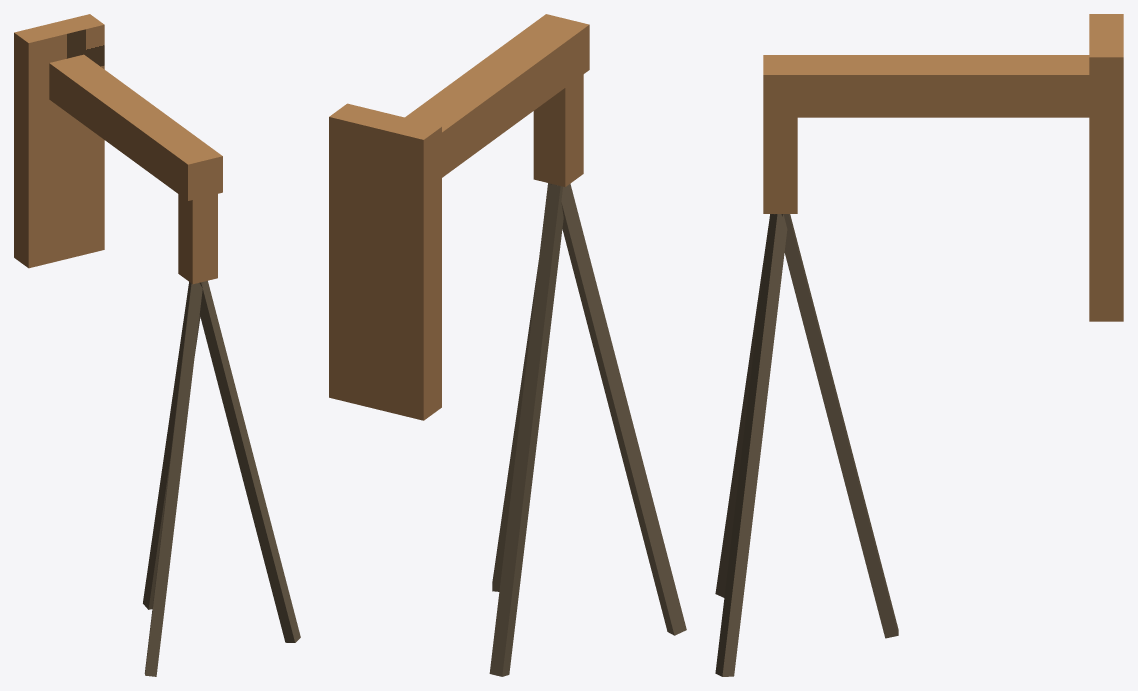
Rendered from HangingArm.obj.
3 views of the same model, side by side, from view 1: azimuth 30°, elevation 25°; view 2: azimuth 150°, elevation 25°; view 3: azimuth 270°, elevation 25° (orthographic). The views are drawn at different scales.
Visible parts, largest first — view 1: HangingArm; view 2: HangingArm; view 3: HangingArm.
Part boxes in pixels (<box>): HangingArm: <box>14,14,300,676</box>; HangingArm: <box>329,14,686,676</box>; HangingArm: <box>715,14,1123,676</box>.
Bounding box in the file's own units: 0.2465 × 0.7725 × 0.4759.
1 material, 1 textured.
